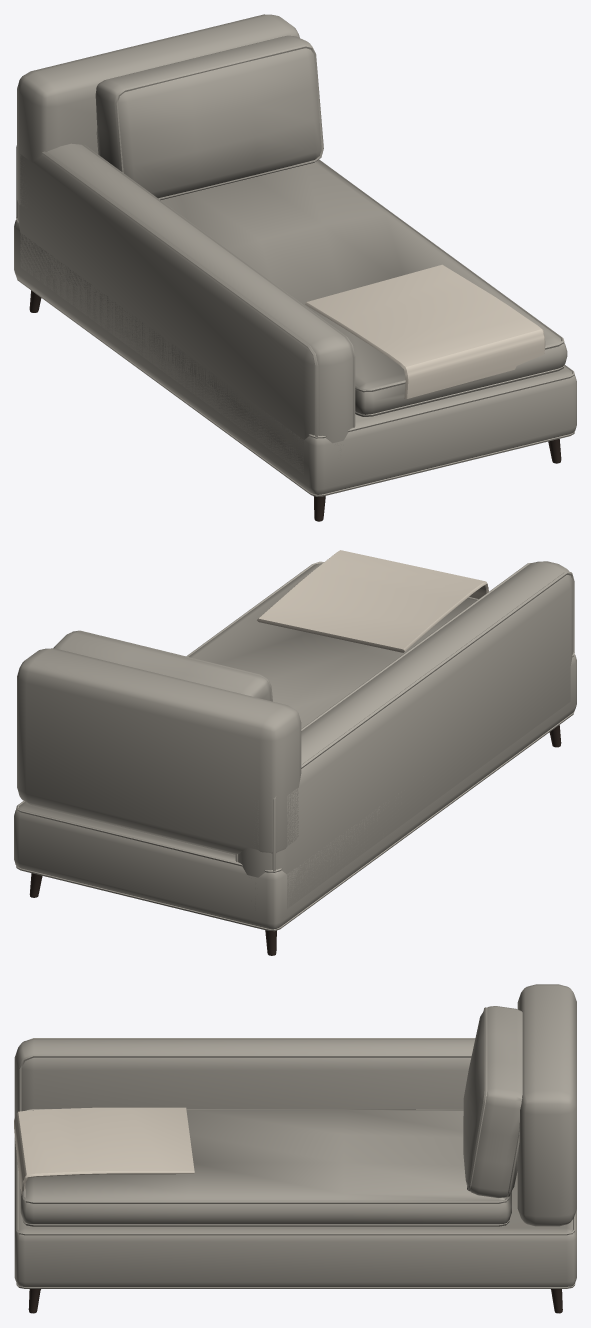
The model's file is chaise.glb.
3 renders of one model, top to bottom at view 1: azimuth 30°, elevation 25°; view 2: azimuth 150°, elevation 25°; view 3: azimuth 270°, elevation 25°, orthographic. The views are drawn at different scales.
Parts seen in each view (by area): view 1: sofa, seat; view 2: sofa, seat; view 3: sofa, seat.
Boxes of the visible parts, x1=… form: sofa: x1=14, y1=14, x2=576, y2=521; seat: x1=161, y1=159, x2=567, y2=416; sofa: x1=14, y1=561, x2=576, y2=955; seat: x1=186, y1=550, x2=488, y2=728; sofa: x1=14, y1=984, x2=576, y2=1313; seat: x1=14, y1=1107, x2=511, y2=1226.
Bounding box in the file's own units: 0.96 × 0.823 × 1.9.
